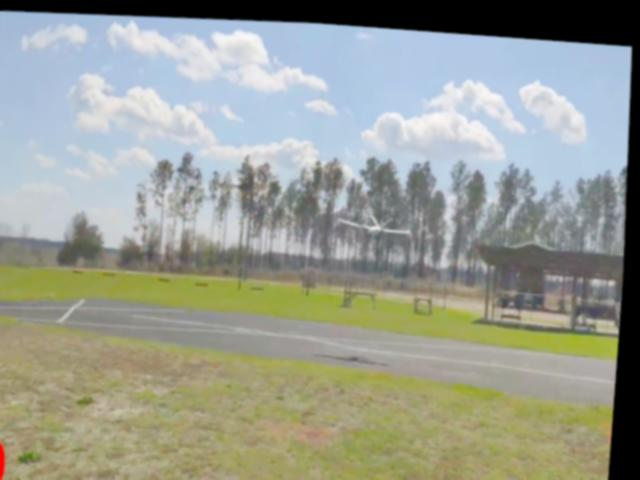plane: (340, 204, 415, 233)
